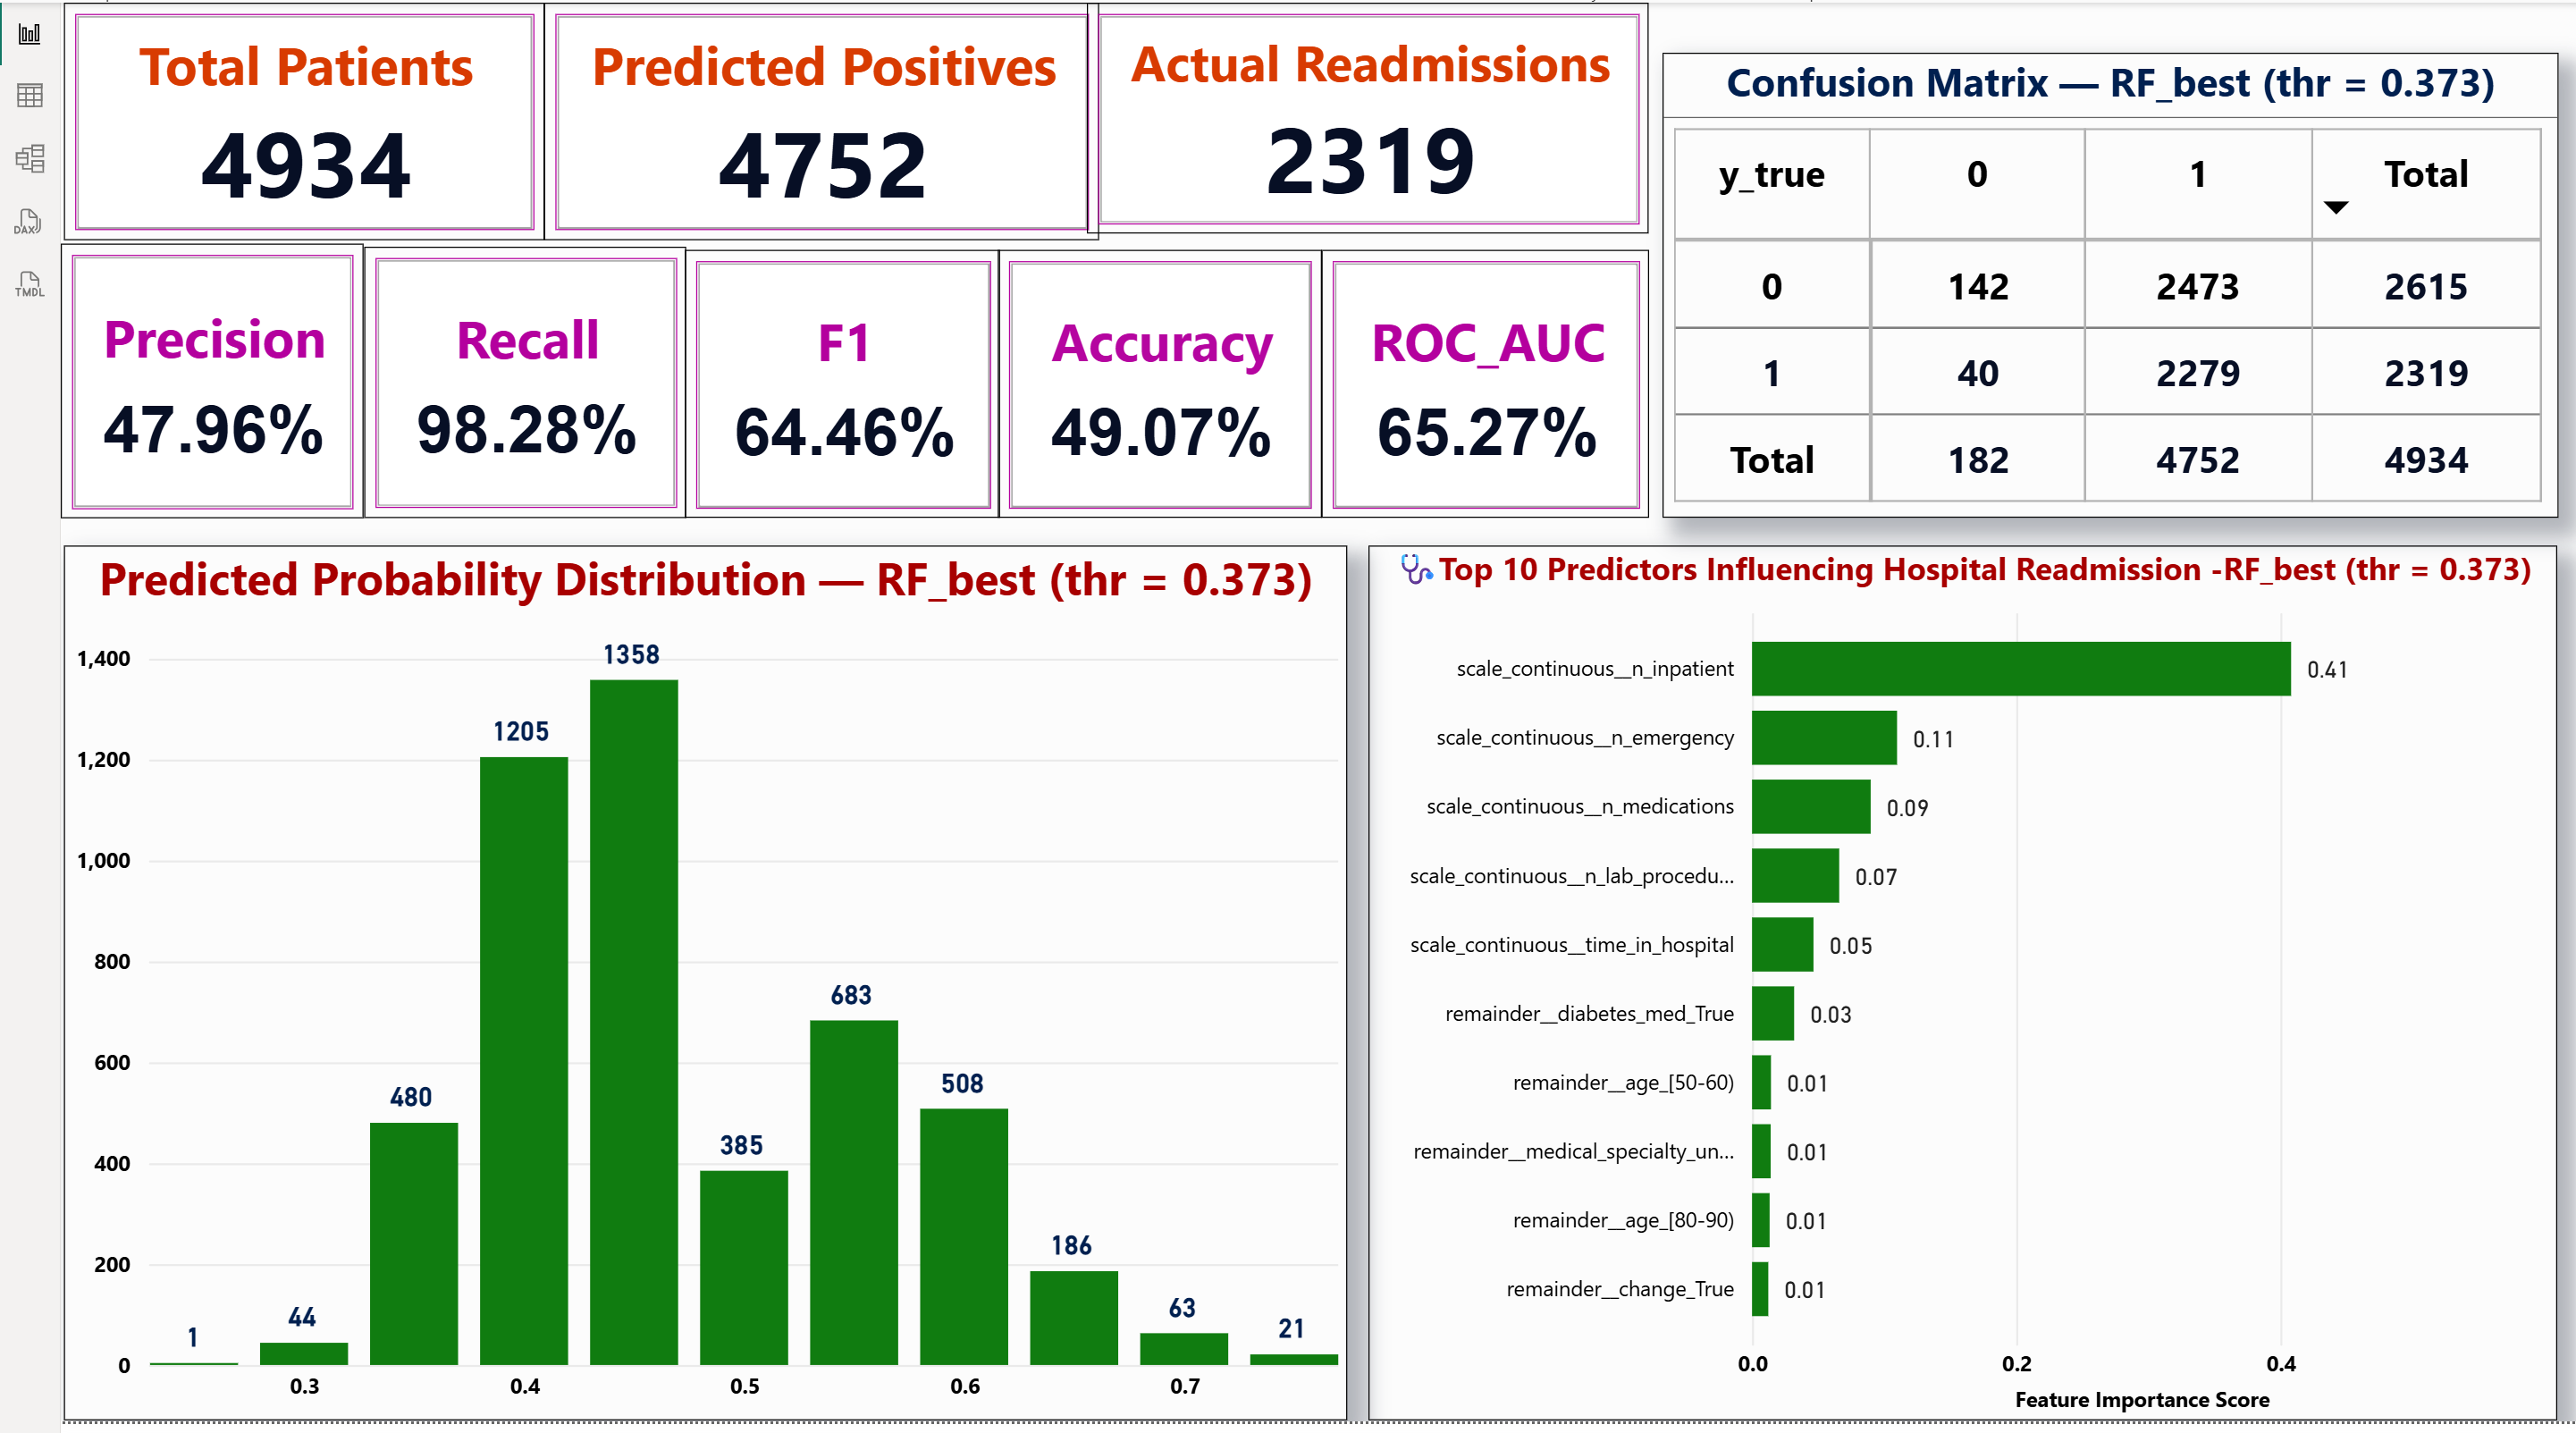

Layout of this report page (visuals, bound fields, positions):
{"tool":"powerbi","page":{"name":"Page 1","canvas":[1280,720],"ordinal":0},"visuals":[{"type":"cardVisual","fields":{"Data":["hosp_dffinal.Total Patients"]},"box":[1.6,0,244,120.4],"z":0},{"type":"cardVisual","fields":{"Data":["hosp_dffinal.Recall"]},"box":[153.7,123.6,163.2,137.8],"z":0,"group":"g1"},{"type":"cardVisual","fields":{"Data":["hosp_dffinal.F1"]},"box":[316.8,125.2,160,136.2],"z":1000,"group":"g1"},{"type":"pivotTable","title":"Confusion Matrix — RF_best (thr = 0.373)","fields":{"Rows":["hosp_dffinal.y_true"],"Columns":["hosp_dffinal.pred_rf_best_thr0373"],"Values":["CountNonNull(hosp_dffinal.row_id)"]},"box":[812.7,25.3,454.7,236],"z":1000},{"type":"cardVisual","fields":{"Data":["hosp_dffinal.Predicted Positives"]},"box":[245.5,0,282,120.4],"z":2000},{"type":"cardVisual","fields":{"Data":["hosp_dffinal.Accuracy"]},"box":[475.2,125.2,164.8,136.2],"z":2000,"group":"g1"},{"type":"cardVisual","fields":{"Data":["hosp_dffinal.Precision"]},"box":[0,122,153.7,139.4],"z":3000,"group":"g1"},{"type":"clusteredColumnChart","title":"Predicted Probability Distribution — RF_best (thr = 0.373)","fields":{"Y":["CountNonNull(hosp_dffinal.row_id)"],"Category":["hosp_dffinal.Probability bins"]},"box":[1.6,275.4,651.1,444.2],"z":3000},{"type":"cardVisual","fields":{"Data":["hosp_dffinal.Actual Readmissions"]},"box":[521.2,0,285.1,117.2],"z":4000},{"type":"cardVisual","fields":{"Data":["hosp_dffinal.ROC_AUC"]},"box":[640,125.2,166.3,136.2],"z":4000,"group":"g1"},{"type":"clusteredBarChart","title":"🩺Top 10 Predictors Influencing Hospital Readmission -RF_best (thr = 0.373)","fields":{"Category":["rf_feature_importances.feature"],"Y":["rf_feature_importances.Importance_NoAgg"]},"box":[663.9,275.4,603.4,444.2],"z":5000},{"type":"group","id":"g1","title":"Group 1","box":[0,122,806.3,139.4],"z":6000}]}

Visuals, with their boxes on the page's 1280x720 design canvas (x1, y1, x2, y2). These are canvas units, not pixel positions in the 2576x1433 screenshot, which may show the page scaled, cropped or inside an application window:
cardVisual - hosp_dffinal.Total Patients: crop(2, 0, 246, 120)
cardVisual - hosp_dffinal.Recall: crop(154, 124, 317, 261)
cardVisual - hosp_dffinal.F1: crop(317, 125, 477, 261)
"Confusion Matrix — RF_best (thr = 0.373)" pivotTable: crop(813, 25, 1267, 261)
cardVisual - hosp_dffinal.Predicted Positives: crop(246, 0, 528, 120)
cardVisual - hosp_dffinal.Accuracy: crop(475, 125, 640, 261)
cardVisual - hosp_dffinal.Precision: crop(0, 122, 154, 261)
"Predicted Probability Distribution — RF_best (thr = 0.373)" clusteredColumnChart: crop(2, 275, 653, 720)
cardVisual - hosp_dffinal.Actual Readmissions: crop(521, 0, 806, 117)
cardVisual - hosp_dffinal.ROC_AUC: crop(640, 125, 806, 261)
"🩺Top 10 Predictors Influencing Hospital Readmission -RF_best (thr = 0.373)" clusteredBarChart: crop(664, 275, 1267, 720)
"Group 1" group: crop(0, 122, 806, 261)
